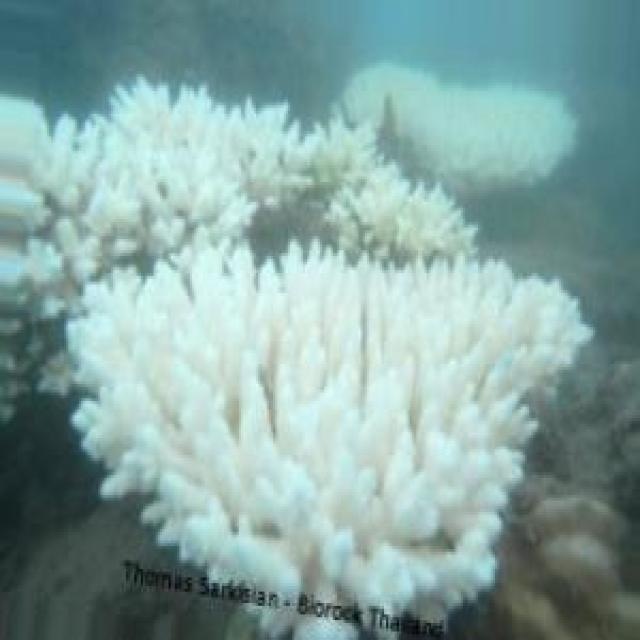bleached coral: (71, 247, 565, 602), (69, 78, 298, 258), (186, 518, 352, 609), (330, 163, 475, 266), (209, 108, 367, 191), (493, 279, 589, 407), (81, 310, 154, 469), (416, 102, 570, 176), (181, 256, 252, 361), (273, 387, 346, 489), (284, 259, 356, 353), (166, 415, 247, 498), (397, 290, 467, 381), (395, 432, 446, 549), (75, 122, 149, 193), (0, 122, 64, 199)
